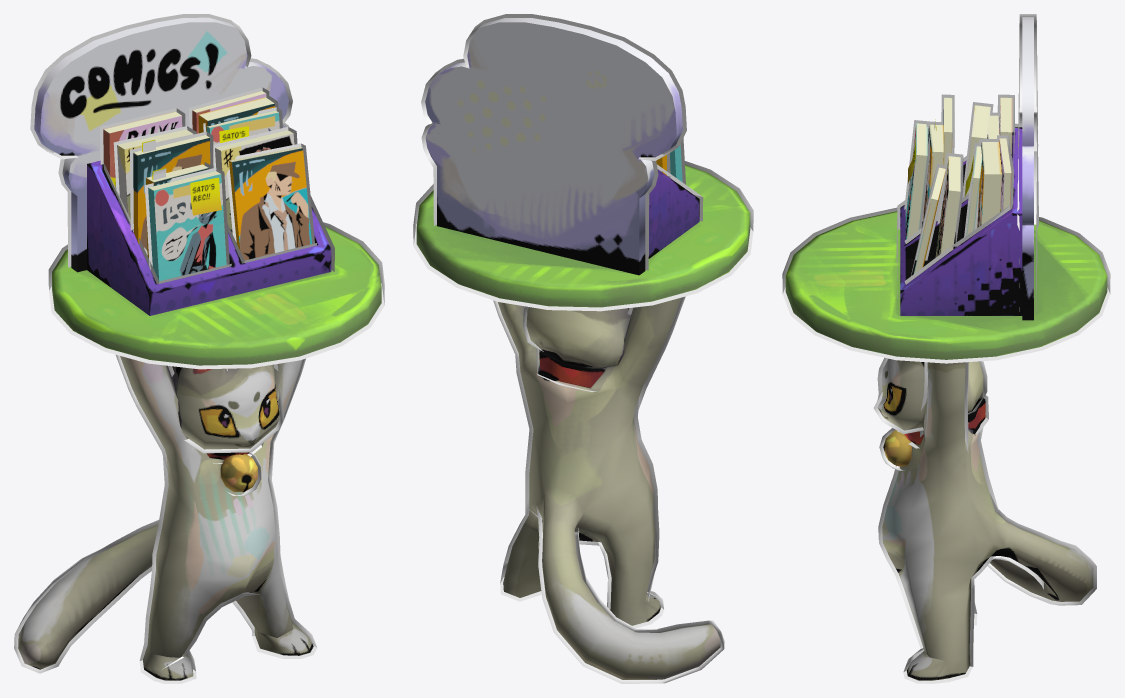
File: Comic Table.glb
3 views of the same model, side by side, from view 1: azimuth 30°, elevation 25°; view 2: azimuth 150°, elevation 25°; view 3: azimuth 270°, elevation 25° (orthographic). The views are drawn at different scales.
Parts seen in each view (by area): view 1: SM_ComicTable_; view 2: SM_ComicTable_; view 3: SM_ComicTable_.
Part boxes in pixels (<box>): SM_ComicTable_: <box>14,14,384,683</box>; SM_ComicTable_: <box>413,14,753,683</box>; SM_ComicTable_: <box>782,14,1110,683</box>.
Bounding box in the file's own units: 0.8624 × 1.64 × 0.8077.
2 materials, 1 textured.
